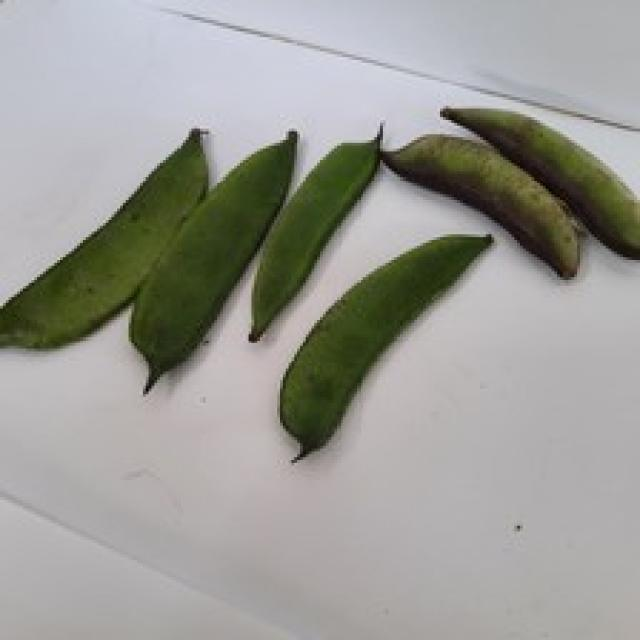Bean: (277, 228, 492, 463), (0, 123, 209, 351), (126, 126, 297, 394), (377, 126, 580, 280), (440, 103, 637, 260), (246, 120, 383, 340)
